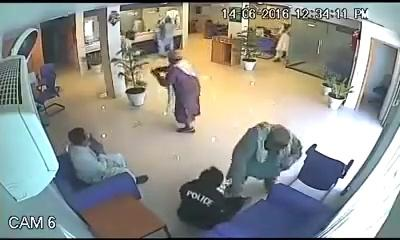weapon: (149, 66, 156, 73)
